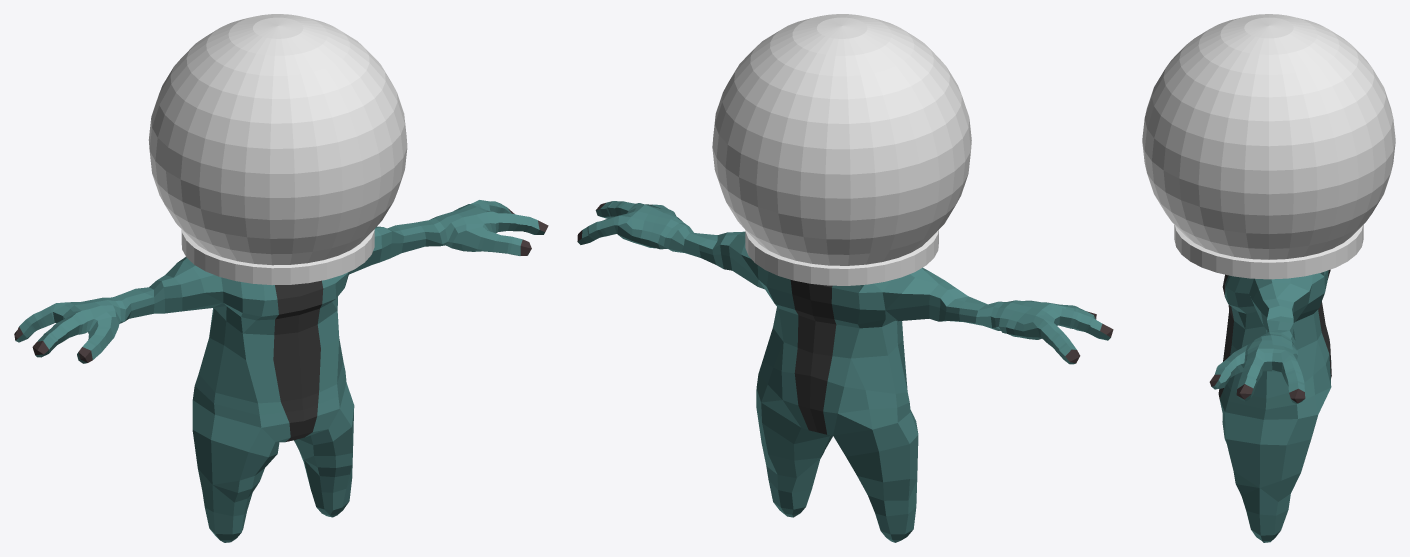
File: Alien.fbx
3 renders of one model, left to right at view 1: azimuth 30°, elevation 25°; view 2: azimuth 150°, elevation 25°; view 3: azimuth 270°, elevation 25°, orthographic. The views are drawn at different scales.
Parts seen in each view (by area): view 1: Cylinder.002; view 2: Cylinder.002; view 3: Cylinder.002.
Part boxes in pixels (left/top/right/bottom): Cylinder.002: left=14, top=14, right=548, bottom=542; Cylinder.002: left=577, top=14, right=1113, bottom=542; Cylinder.002: left=1142, top=14, right=1395, bottom=542.
Bounding box in the file's own units: 336 × 315 × 148.
